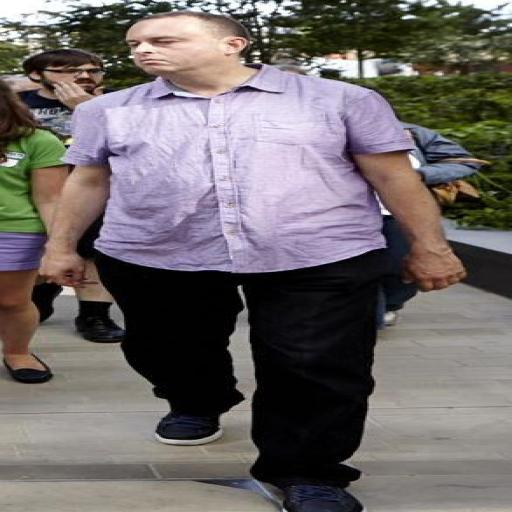person: (44, 12, 464, 511), (0, 80, 68, 383), (76, 218, 124, 342), (383, 212, 417, 325)
